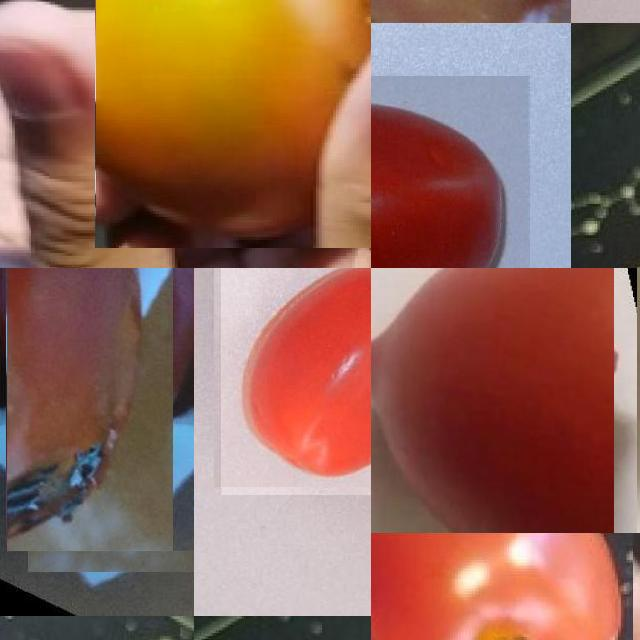0: (371, 268, 614, 533), (371, 533, 636, 640)
1: (95, 0, 371, 248)
Fresh Tomato: (221, 268, 371, 495), (371, 75, 530, 268)
Rotten Tomato: (6, 268, 194, 551)
